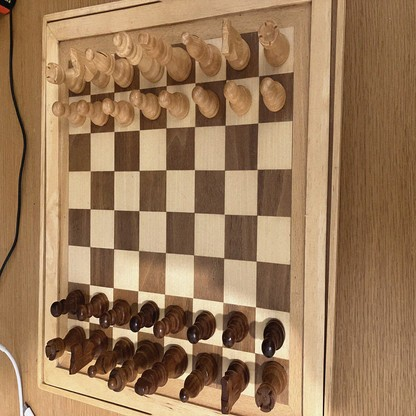bishop_black: (179, 355, 215, 402), (89, 338, 132, 375)
bishop_white: (183, 32, 222, 76), (86, 50, 132, 86)
king_black: (134, 346, 186, 395)
king_white: (139, 34, 190, 79)
knight_black: (69, 333, 107, 375), (221, 362, 249, 414)
knight_white: (69, 48, 109, 86), (221, 17, 250, 69)
pawn_black: (154, 305, 186, 337), (222, 313, 250, 346), (100, 300, 132, 327), (188, 312, 216, 341), (130, 303, 159, 331), (263, 320, 285, 356), (79, 295, 108, 321), (51, 293, 83, 316)
pawn_white: (224, 82, 252, 117), (192, 84, 219, 118), (159, 90, 190, 119), (130, 90, 160, 119), (52, 102, 86, 127), (103, 98, 134, 125), (261, 77, 286, 110), (77, 101, 108, 127)
queen_black: (108, 340, 158, 391)
queen_white: (114, 34, 163, 80)
rock_black: (256, 363, 286, 411), (46, 326, 84, 359)
rock_white: (258, 20, 289, 67), (46, 63, 83, 91)
